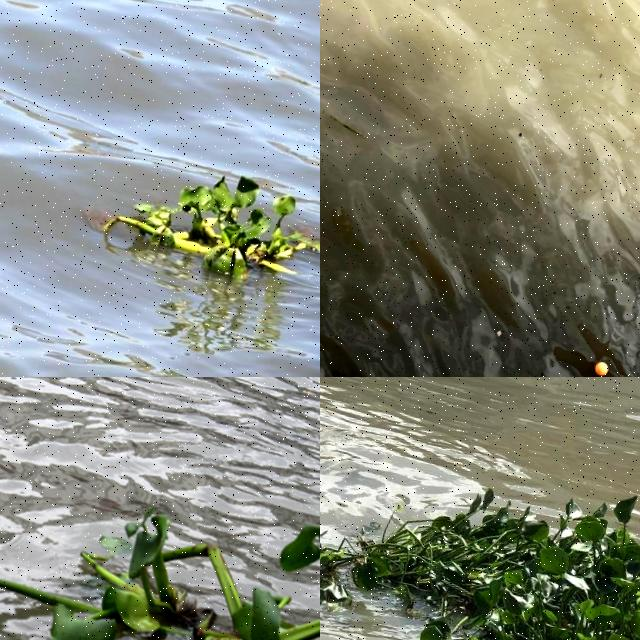water-hyacinth: (1, 432, 321, 640), (396, 470, 640, 640), (321, 473, 554, 640), (107, 163, 321, 302)
